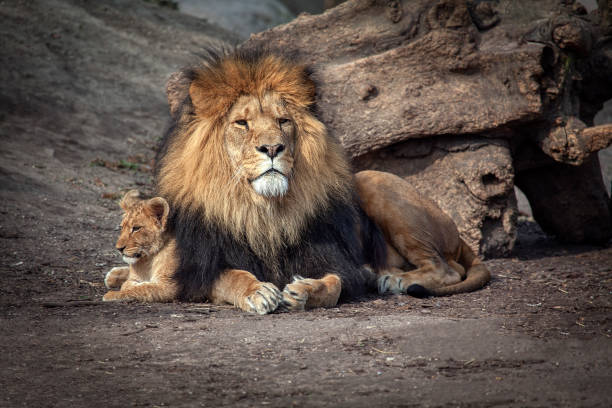lion: (141, 44, 370, 279)
